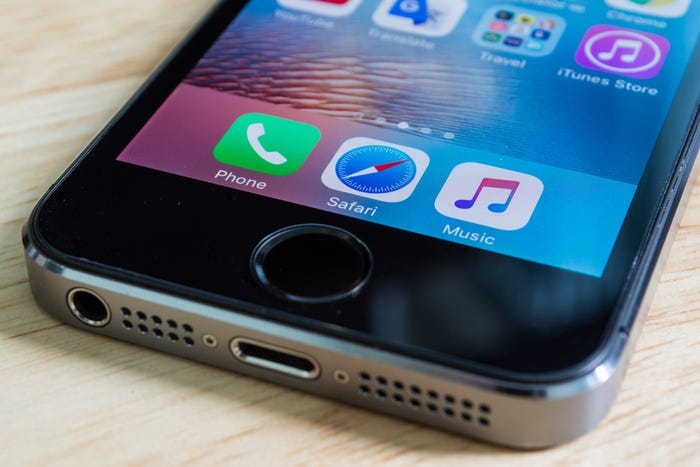Cell Phone: (42, 2, 693, 434)
